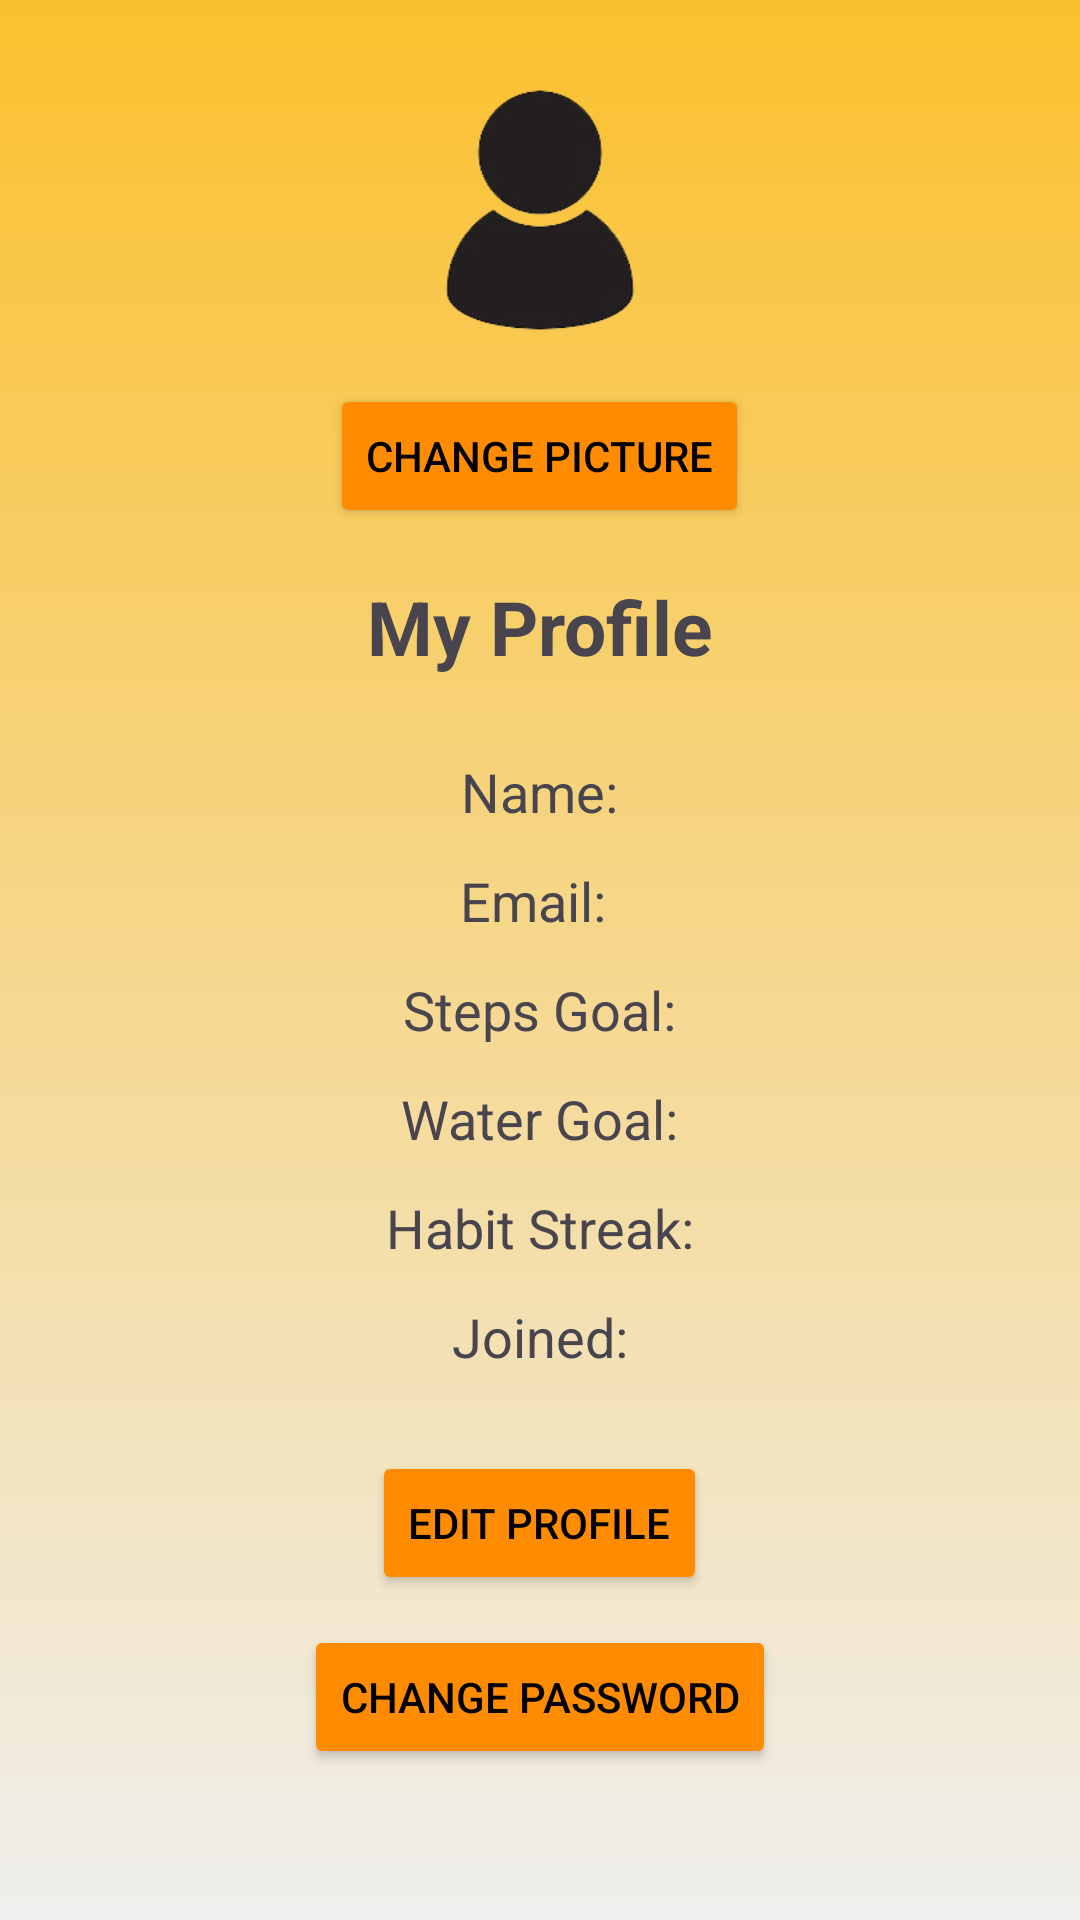

Icon click points for this 1080w x 1920h phone screenshot, format (x=x, y=y):
profile: (x=540, y=225)
